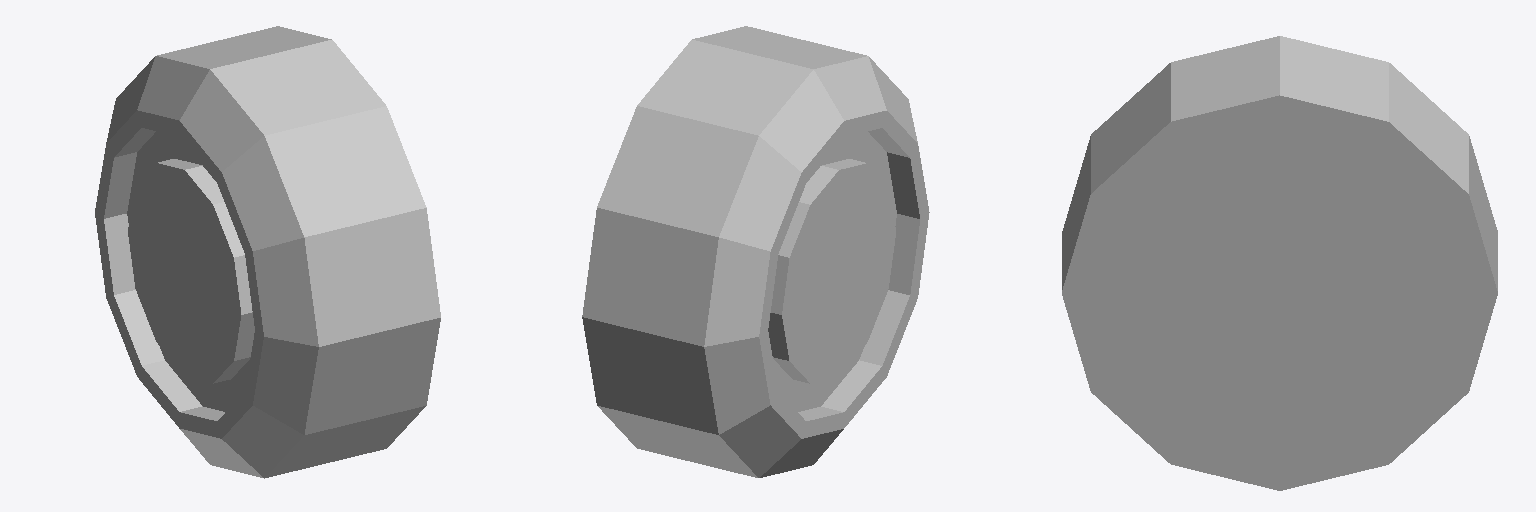
The model's file is posteriore.obj.
The picture shows the model from 3 angles: view 1: azimuth 30°, elevation 25°; view 2: azimuth 150°, elevation 25°; view 3: azimuth 270°, elevation 25°; orthographic projection.
Visible parts, largest first — view 1: wheelbl_Cylinder.002; view 2: wheelbl_Cylinder.002; view 3: wheelbl_Cylinder.002.
Part boxes in pixels (left/top/right/bottom): wheelbl_Cylinder.002: left=95, top=26, right=440, bottom=478; wheelbl_Cylinder.002: left=582, top=26, right=929, bottom=477; wheelbl_Cylinder.002: left=1062, top=36, right=1497, bottom=490.
Size of the model in its own units: 0.4822 by 1.19 by 1.19.